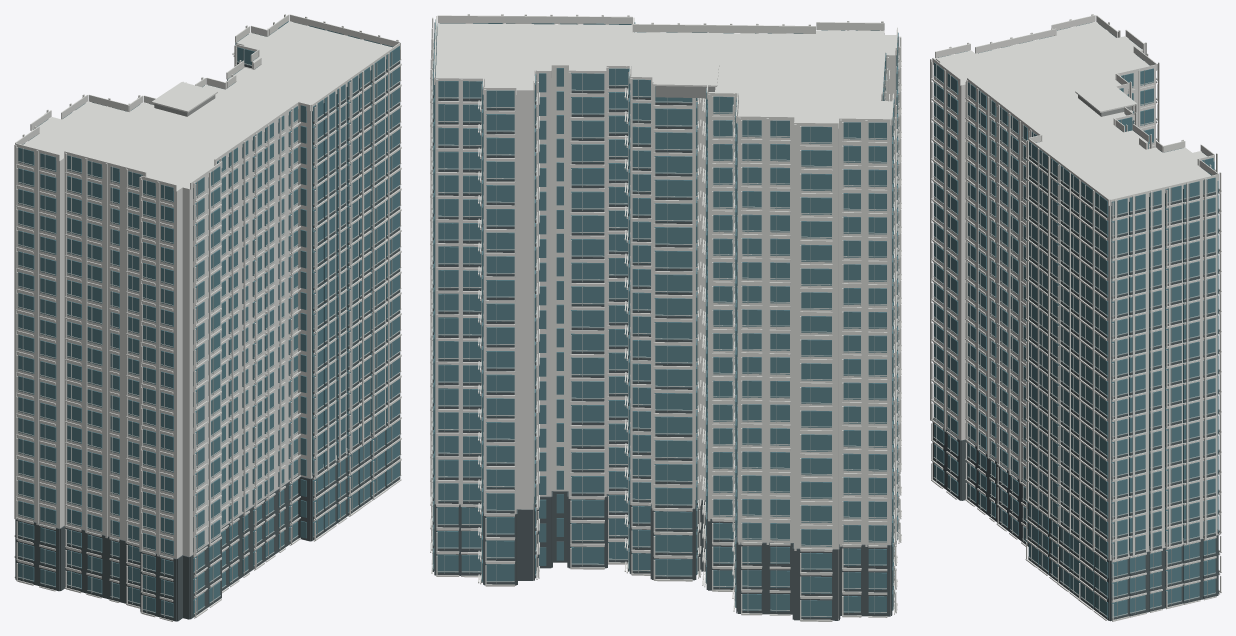
Rendered from bespoke-acro-riverpark-100.glb.
The picture shows the model from 3 angles, left to right: view 1: azimuth 30°, elevation 25°; view 2: azimuth 150°, elevation 25°; view 3: azimuth 270°, elevation 25°; orthographic projection. The views are drawn at different scales.
Visible parts, largest first — view 1: 100_Warm_pale_architectural_planes001, 100_Blue_grey_glazing001, 100_Silver_glazing_mullions001, 100_Charcoal_stone_lower_storeys001; view 2: 100_Warm_pale_architectural_planes001, 100_Blue_grey_glazing001, 100_Charcoal_stone_lower_storeys001, 100_Silver_glazing_mullions001, 100_Roof_equipment001; view 3: 100_Warm_pale_architectural_planes001, 100_Blue_grey_glazing001, 100_Silver_glazing_mullions001, 100_Charcoal_stone_lower_storeys001.
Part boxes in pixels (<box>): 100_Warm_pale_architectural_planes001: <box>14,14,401,621</box>; 100_Blue_grey_glazing001: <box>18,21,399,617</box>; 100_Silver_glazing_mullions001: <box>18,49,400,617</box>; 100_Charcoal_stone_lower_storeys001: <box>15,61,400,621</box>; 100_Warm_pale_architectural_planes001: <box>430,14,901,621</box>; 100_Blue_grey_glazing001: <box>433,19,898,617</box>; 100_Charcoal_stone_lower_storeys001: <box>432,86,896,620</box>; 100_Silver_glazing_mullions001: <box>432,22,899,618</box>; 100_Roof_equipment001: <box>655,86,715,98</box>; 100_Warm_pale_architectural_planes001: <box>930,14,1221,621</box>; 100_Blue_grey_glazing001: <box>934,22,1218,618</box>; 100_Silver_glazing_mullions001: <box>933,64,1219,617</box>; 100_Charcoal_stone_lower_storeys001: <box>932,120,1219,621</box>.
Bounding box in the file's own units: 70.5 × 74 × 46.44.
